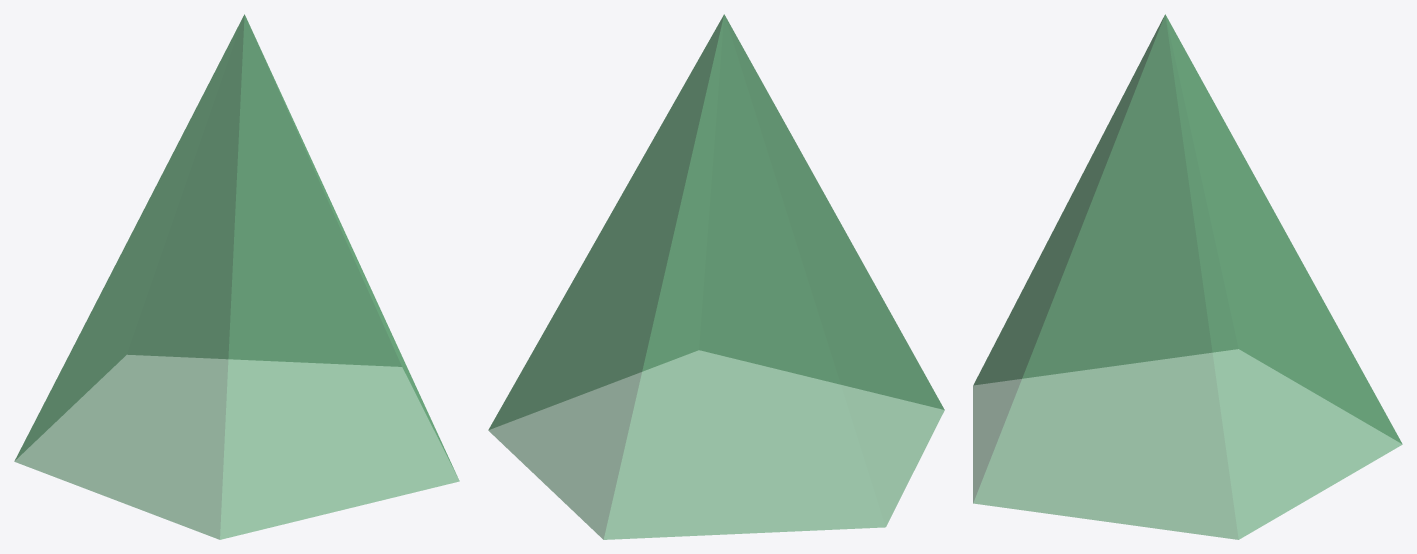
The model's file is ArrowHeadEffect.fbx.
3 views of the same model, side by side, from view 1: azimuth 30°, elevation 25°; view 2: azimuth 150°, elevation 25°; view 3: azimuth 270°, elevation 25° (orthographic). The views are drawn at different scales.
Parts seen in each view (by area): view 1: Cone; view 2: Cone; view 3: Cone.
Part boxes in pixels (box(x1,y1,x2,y2)): Cone: box(14, 14, 459, 539); Cone: box(488, 14, 944, 539); Cone: box(973, 14, 1402, 539).
Bounding box in the file's own units: 35.11 × 36.92 × 33.39.
